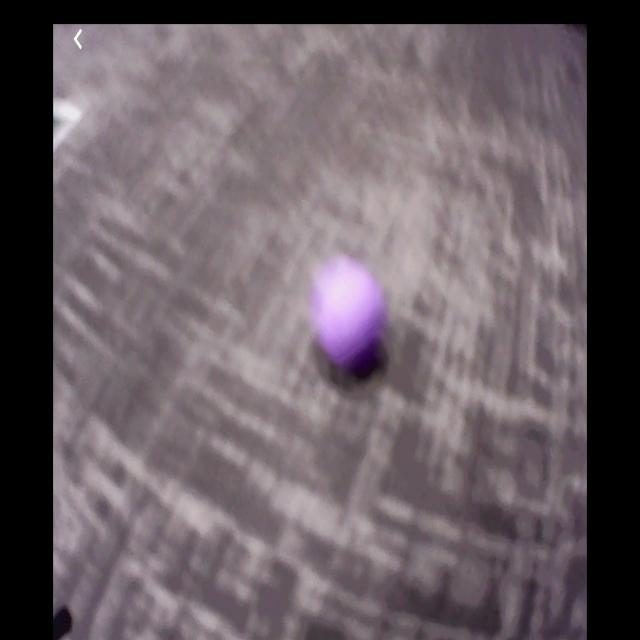ball: (315, 254, 382, 370)
